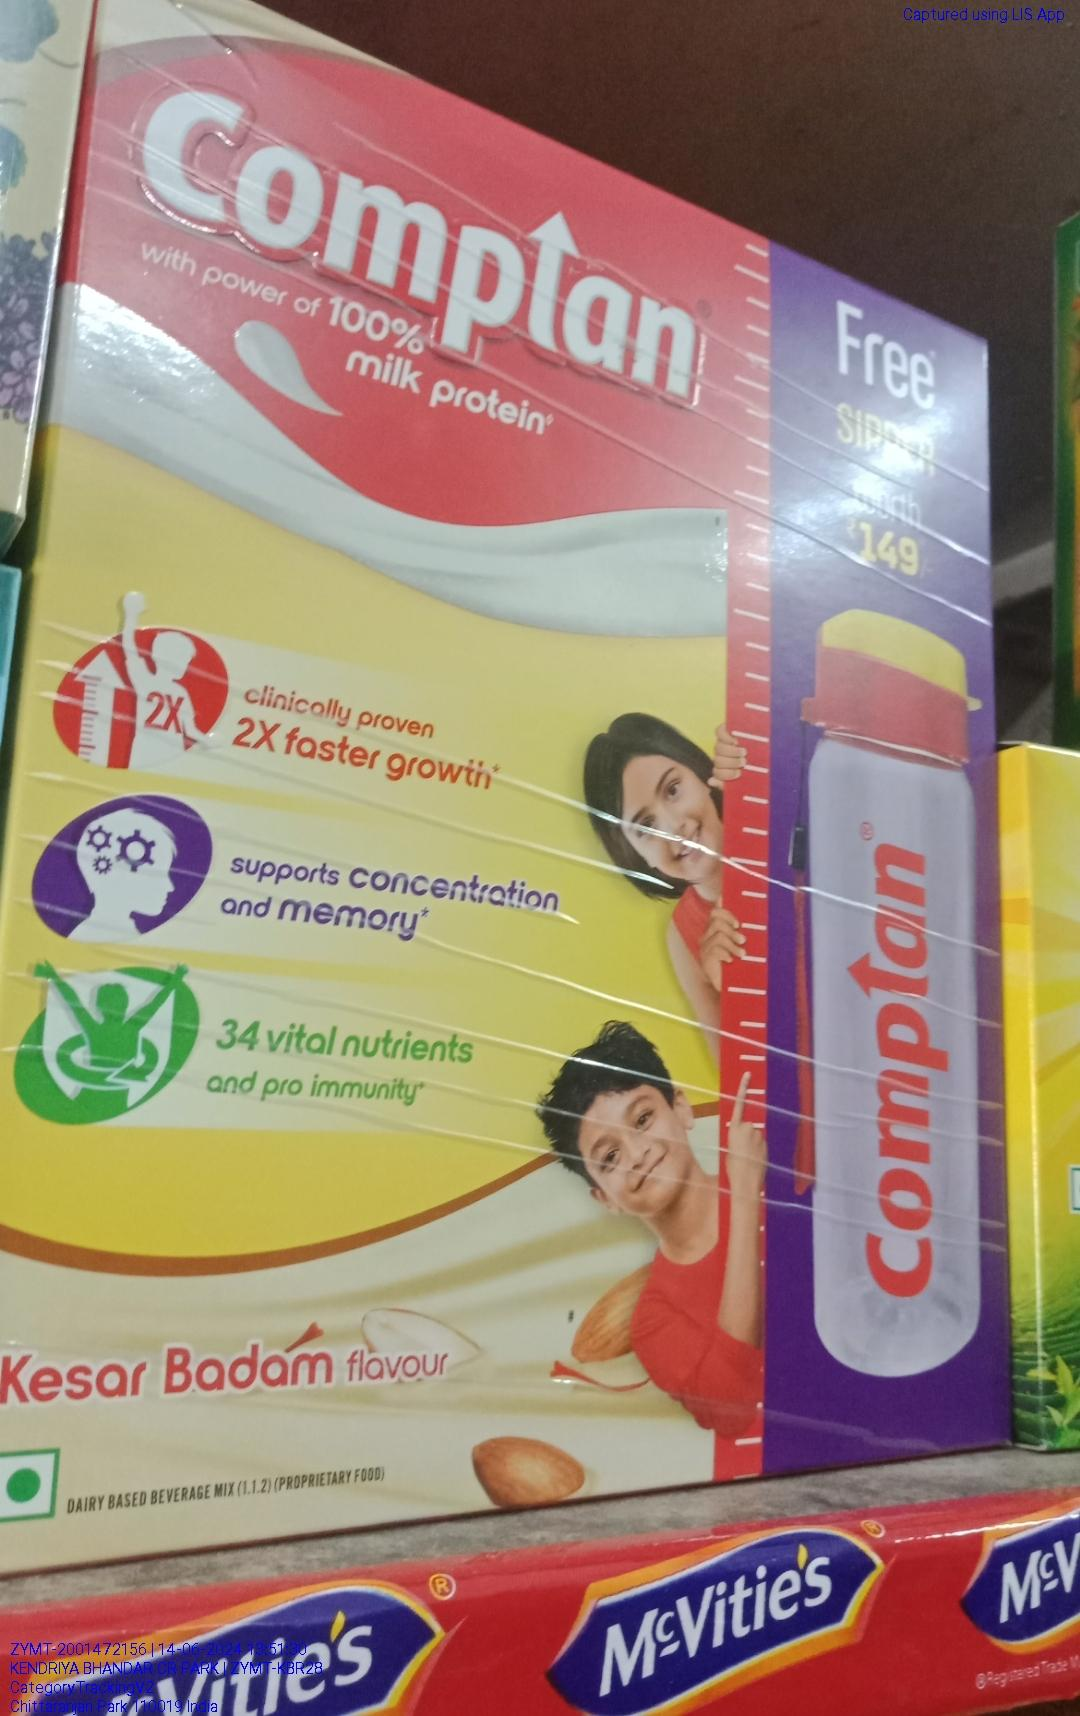COMPLAN_KESAR_BADAM_500_GMS_PACK: (25, 25, 990, 1499)
